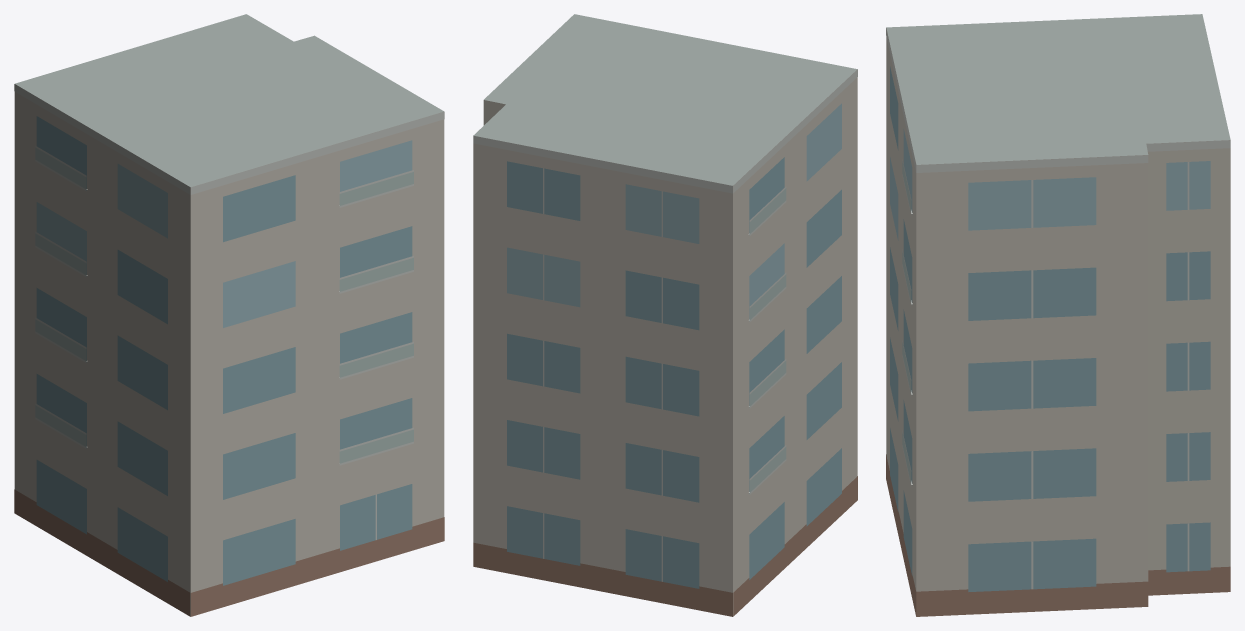
File: survey-upis-32654462.glb
3 views of the same model, side by side, from view 1: azimuth 30°, elevation 25°; view 2: azimuth 150°, elevation 25°; view 3: azimuth 270°, elevation 25° (orthographic). The views are drawn at different scales.
Parts seen in each view (by area): view 1: survey-upis-32654462.tmp; view 2: survey-upis-32654462.tmp; view 3: survey-upis-32654462.tmp.
Part boxes in pixels (left/top/right/bottom): survey-upis-32654462.tmp: left=14, top=14, right=444, bottom=616; survey-upis-32654462.tmp: left=473, top=14, right=857, bottom=616; survey-upis-32654462.tmp: left=886, top=14, right=1230, bottom=616.
Bounding box in the file's own units: 9.75 × 13.6 × 9.41.
